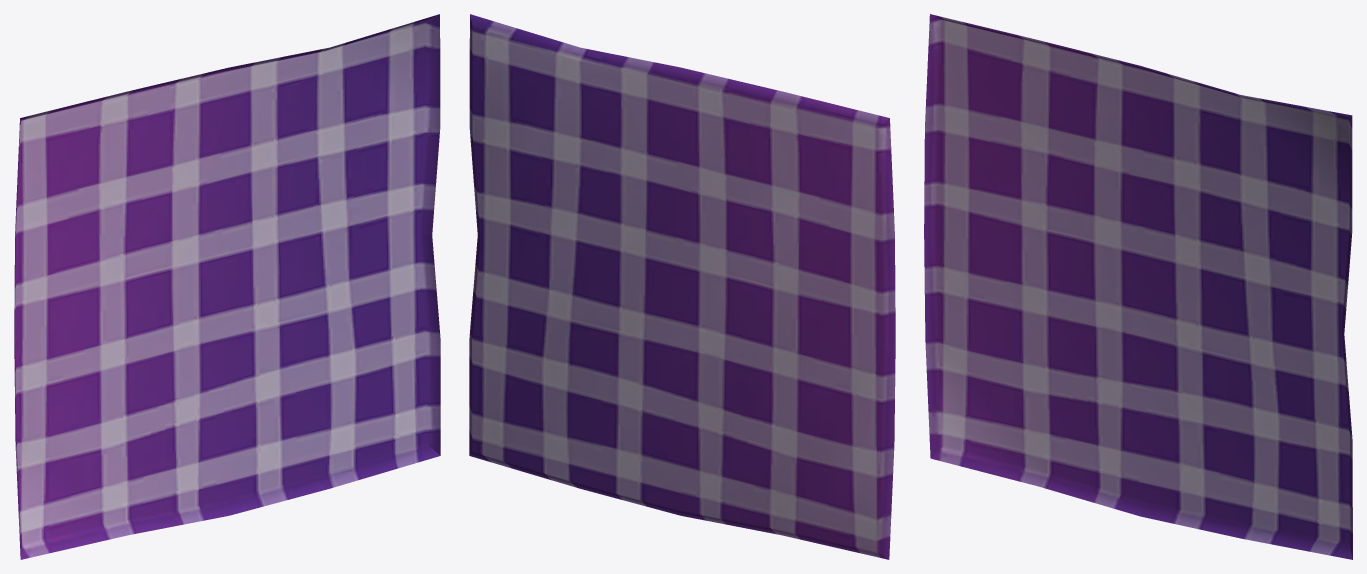
File: PicnicBlanket.fbx
3 views of the same model, side by side, from view 1: azimuth 30°, elevation 25°; view 2: azimuth 150°, elevation 25°; view 3: azimuth 330°, elevation 25° (orthographic).
Visible parts, largest first — view 1: PicnicBlanket; view 2: PicnicBlanket; view 3: PicnicBlanket.
Boxes of the visible parts, left/top/right/bottom form: PicnicBlanket: left=14, top=14, right=440, bottom=559; PicnicBlanket: left=469, top=14, right=895, bottom=559; PicnicBlanket: left=924, top=14, right=1352, bottom=559.
Size of the model in its own units: 242 by 245 by 5.68.
